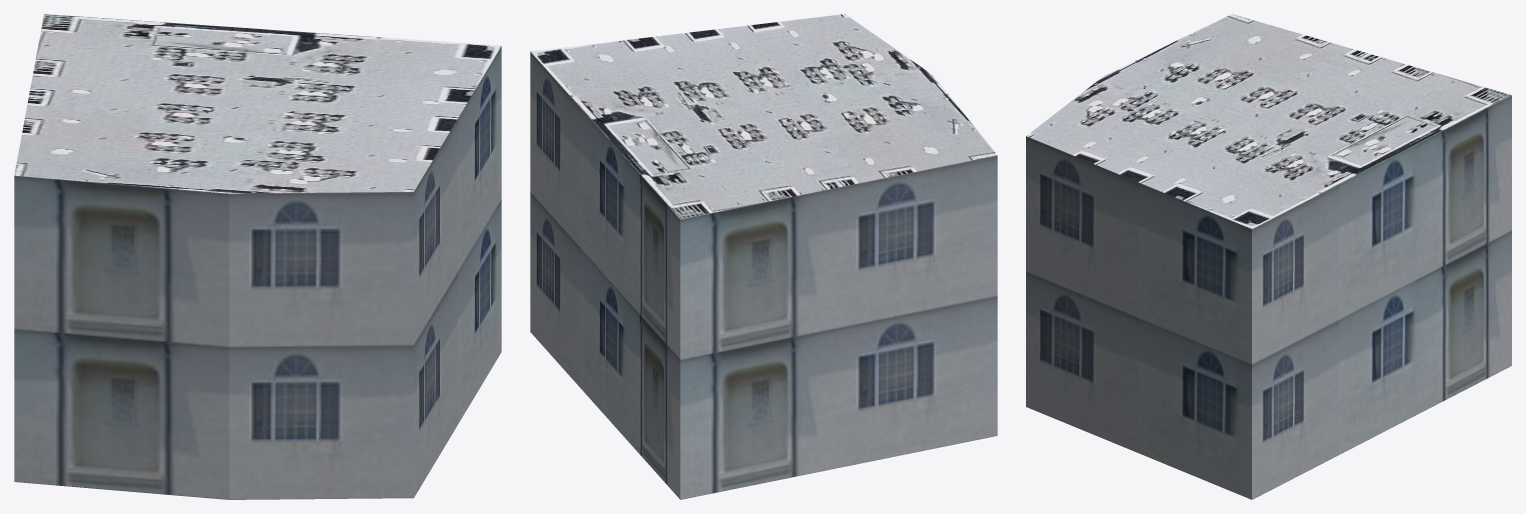
Rendered from ResTex__3349.fbx.
3 views of the same model, side by side, from view 1: azimuth 30°, elevation 25°; view 2: azimuth 150°, elevation 25°; view 3: azimuth 270°, elevation 25° (orthographic). The views are drawn at different scales.
Visible parts, largest first — view 1: CityEngineMaterial_17_m, CityEngineMaterial_8_m; view 2: CityEngineMaterial_17_m, CityEngineMaterial_8_m; view 3: CityEngineMaterial_17_m, CityEngineMaterial_8_m.
Boxes of the visible parts, left/top/right/bottom form: CityEngineMaterial_17_m: left=14, top=46, right=501, bottom=499; CityEngineMaterial_8_m: left=14, top=14, right=501, bottom=193; CityEngineMaterial_17_m: left=530, top=52, right=997, bottom=499; CityEngineMaterial_8_m: left=530, top=14, right=996, bottom=219; CityEngineMaterial_17_m: left=1026, top=95, right=1511, bottom=499; CityEngineMaterial_8_m: left=1026, top=14, right=1511, bottom=228.
Bounding box in the file's own units: 10.22 × 6 × 9.75.
Materials: 2 (2 with a texture image).
